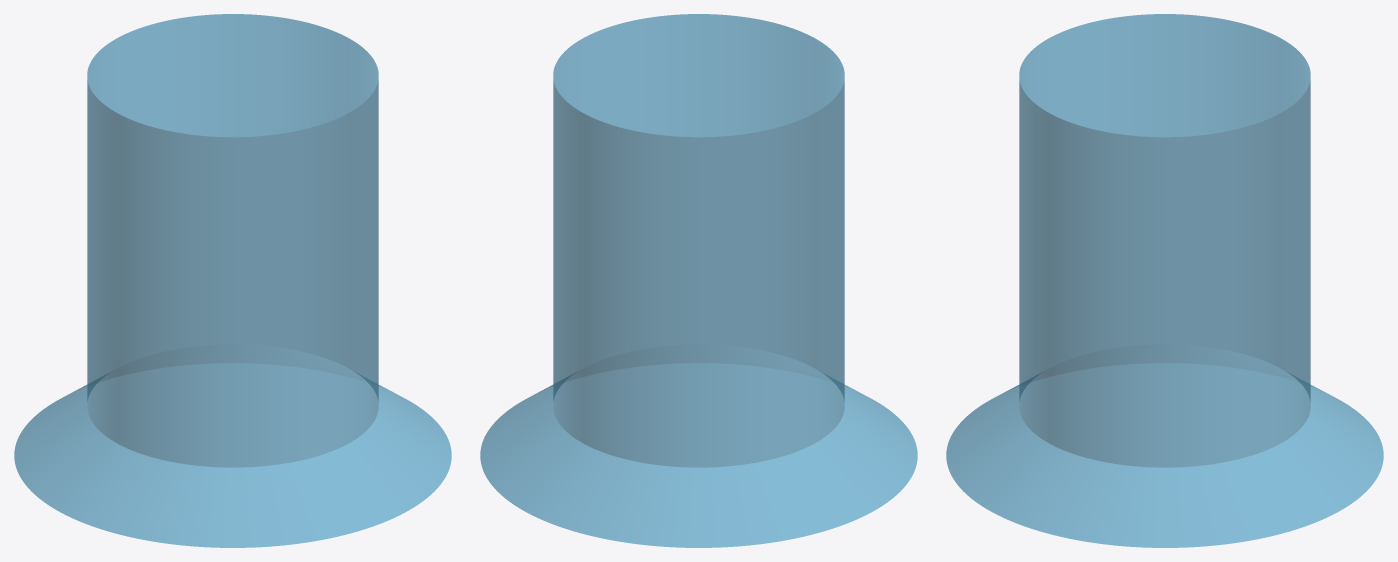
The model's file is container.glb.
3 renders of one model, left to right at view 1: azimuth 30°, elevation 25°; view 2: azimuth 150°, elevation 25°; view 3: azimuth 270°, elevation 25°, orthographic.
Visible parts, largest first — view 1: Cylinder; view 2: Cylinder; view 3: Cylinder.
Part boxes in pixels (<box>): Cylinder: <box>14,14,451,547</box>; Cylinder: <box>480,14,917,547</box>; Cylinder: <box>946,14,1383,547</box>.
Size of the model in its own units: 6 by 5.75 by 6.
